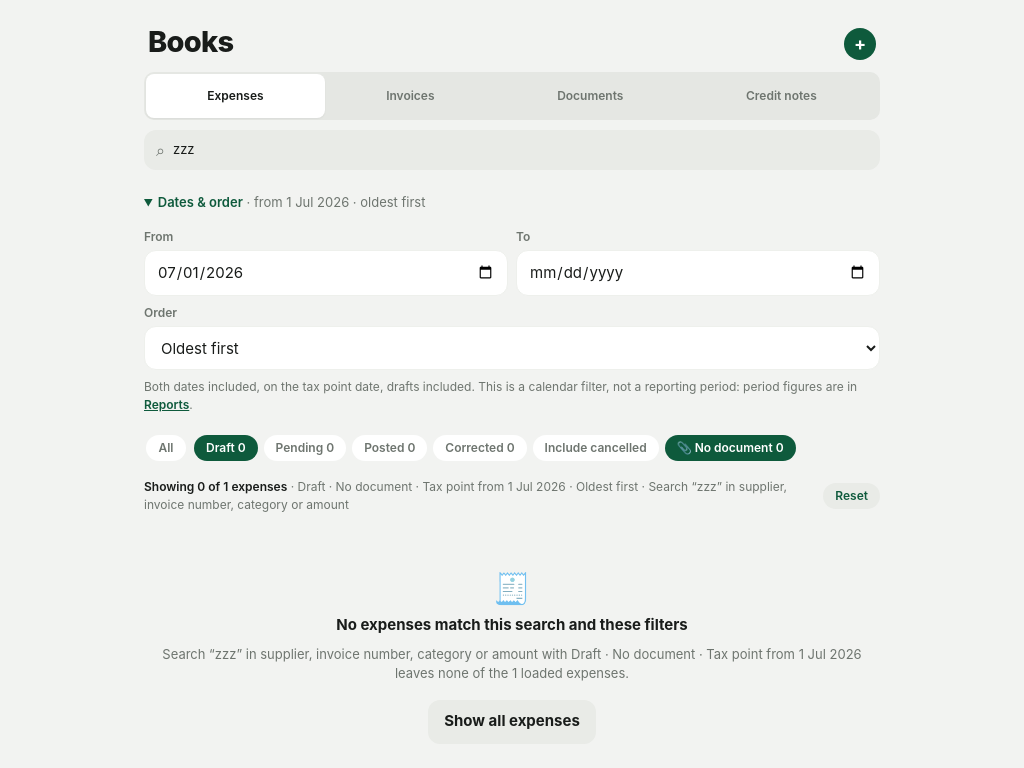
Test case: Books empty states (issue #280) › search + filters together say so; Show all clears everything, keeps seg/unrelated/state, focuses All
Expected: the text "No expenses match this search and these filters" is shown, [336,614,688,636]
Expected: the text "Search “zzz” in supplier, invoice number, category or amount with Draft · No document · Tax point from 1 Jul 2026 leaves" is shown, [162,646,862,681]
Step 1. Click the button "Show all expenses" → [512, 722], box [428,700,596,744]
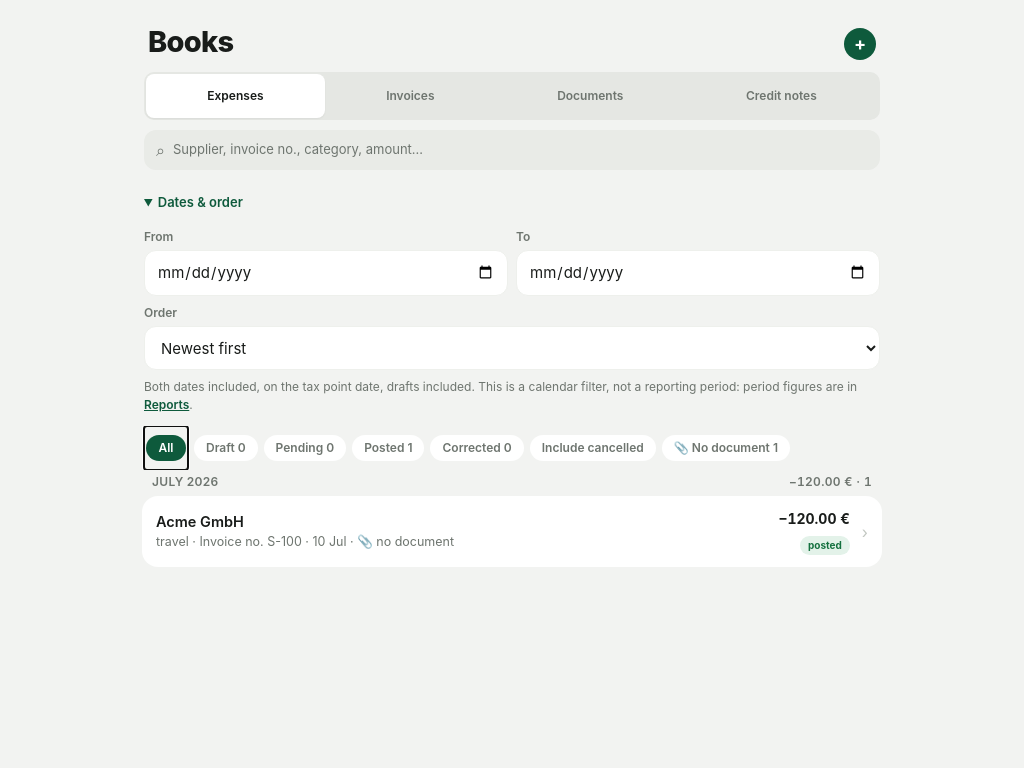
Now the text "Acme GmbH" is shown, box [156,513,244,530]
Now the date field labelled "From" is empty, box [144,250,508,296]
